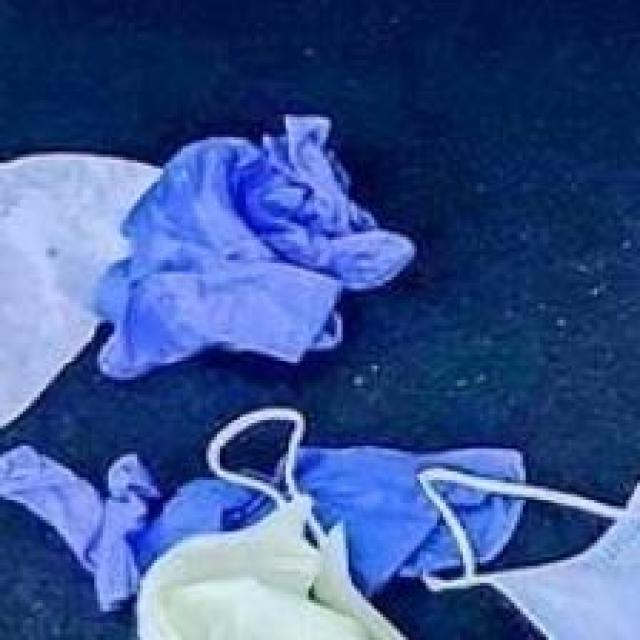Glove: (28, 421, 511, 575), (83, 160, 406, 376)
Mask: (159, 379, 640, 640)
